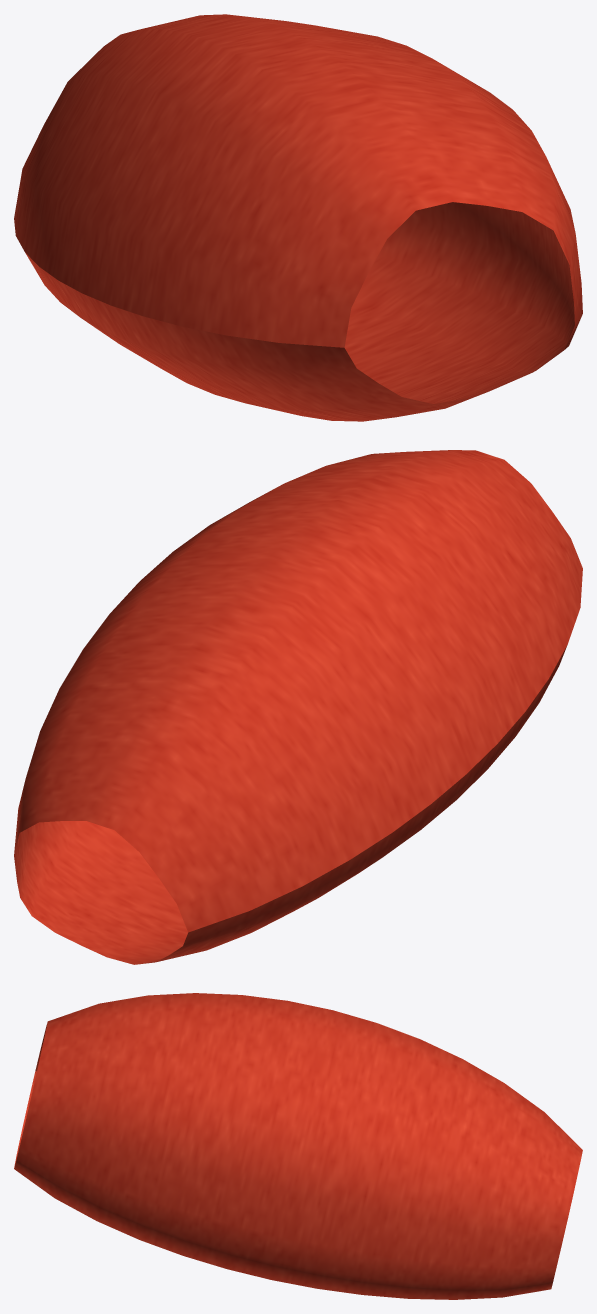
The model's file is 12_Veg_Carrot_TopRight.obj.
3 views of the same model, one above another, from view 1: azimuth 30°, elevation 25°; view 2: azimuth 150°, elevation 25°; view 3: azimuth 270°, elevation 25° (orthographic). The views are drawn at different scales.
Visible parts, largest first — view 1: 12_Veg_Carrot_TopRight; view 2: 12_Veg_Carrot_TopRight; view 3: 12_Veg_Carrot_TopRight.
Part boxes in pixels (left/top/right/bottom): 12_Veg_Carrot_TopRight: left=14, top=14, right=582, bottom=421; 12_Veg_Carrot_TopRight: left=14, top=450, right=582, bottom=964; 12_Veg_Carrot_TopRight: left=14, top=993, right=582, bottom=1299.
Size of the model in its own units: 0.0293 by 0.0258 by 0.0514.
Materials: 1 (1 with a texture image).
